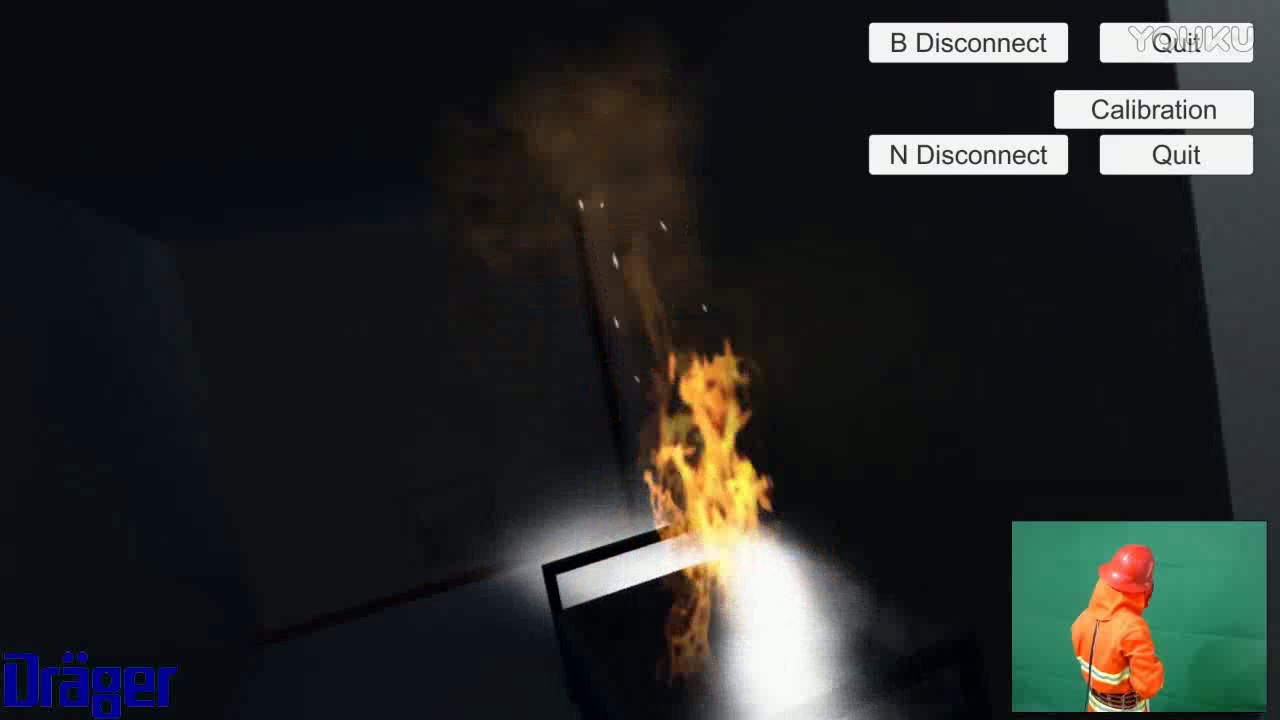fire: (625, 329, 784, 677)
